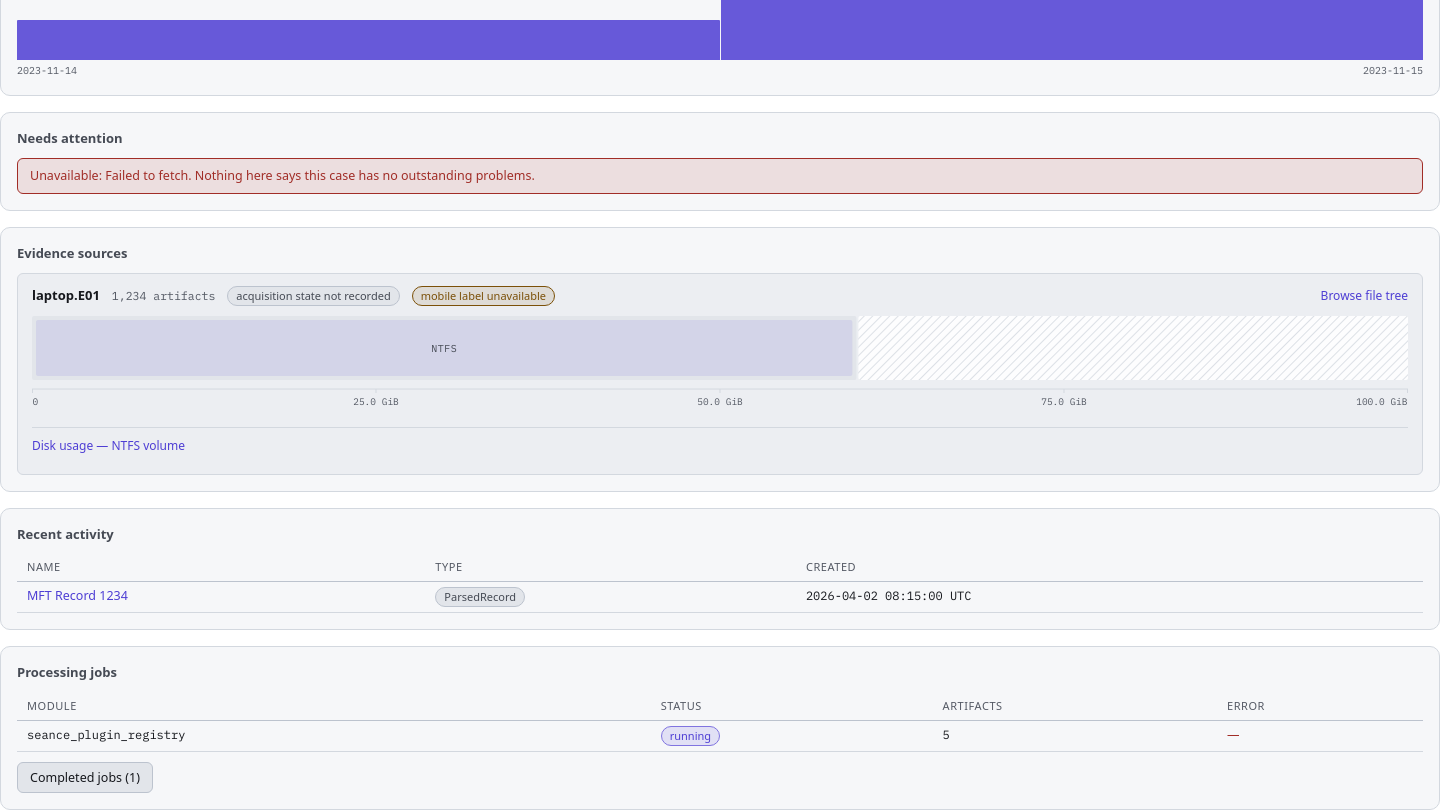
Scenario: CaseDashboardPage › hides the disk usage section when the allocation map returns 404
(page scrolled)
Click the button "Disk usage — NTFS volume": [108, 445] box [32,436,185,454]
(page scrolled)
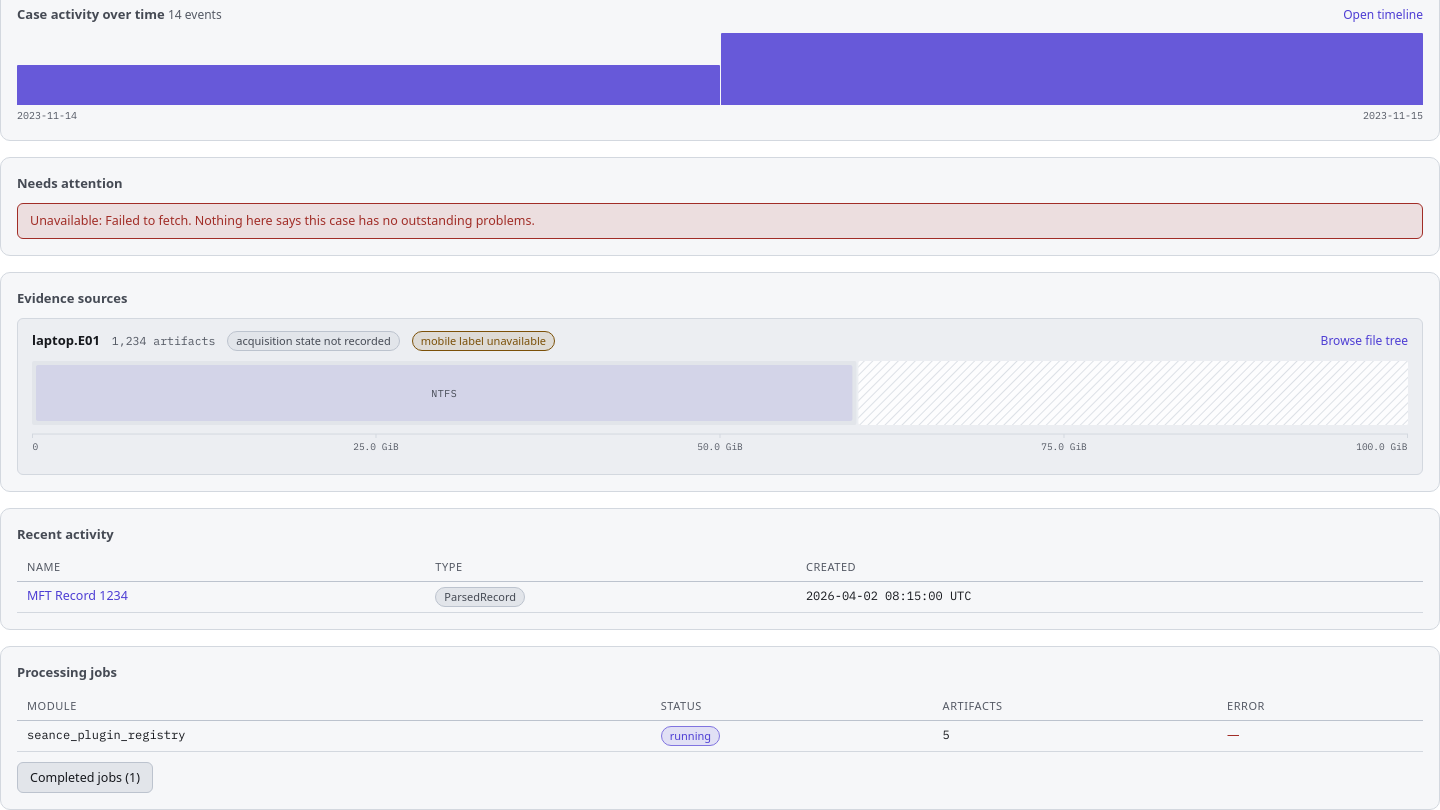
Check: the button "Disk usage — NTFS volume" is gone
